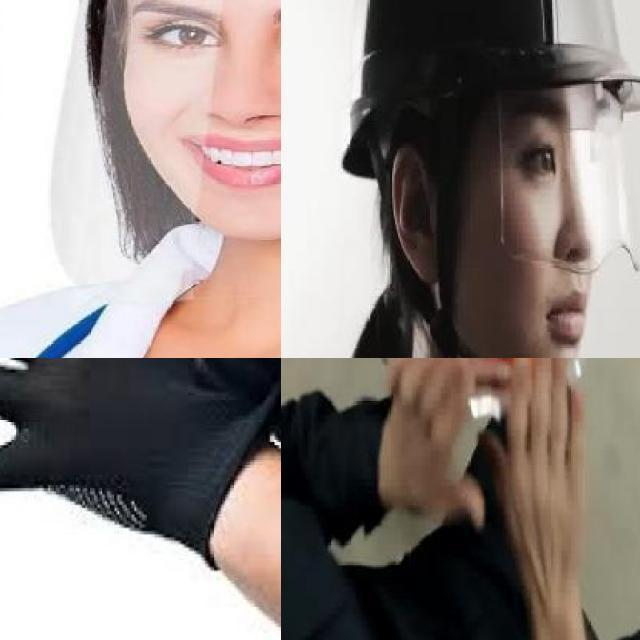apron: (0, 358, 244, 559)
